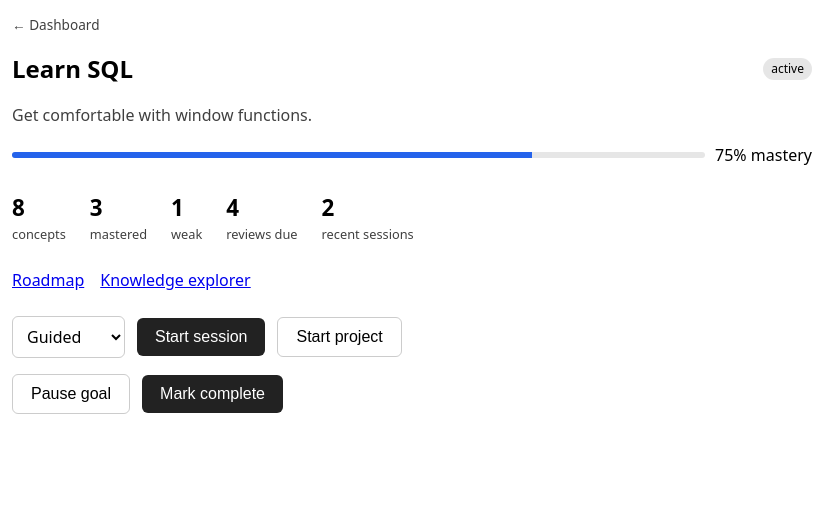
Test: GoalView › shows a start-project failure inline instead of blanking the rest of the page
Expected: the heading "Learn SQL" is shown, [12,51,133,87]
Click the button "Start project" at (340,337), box [278,317,402,357]
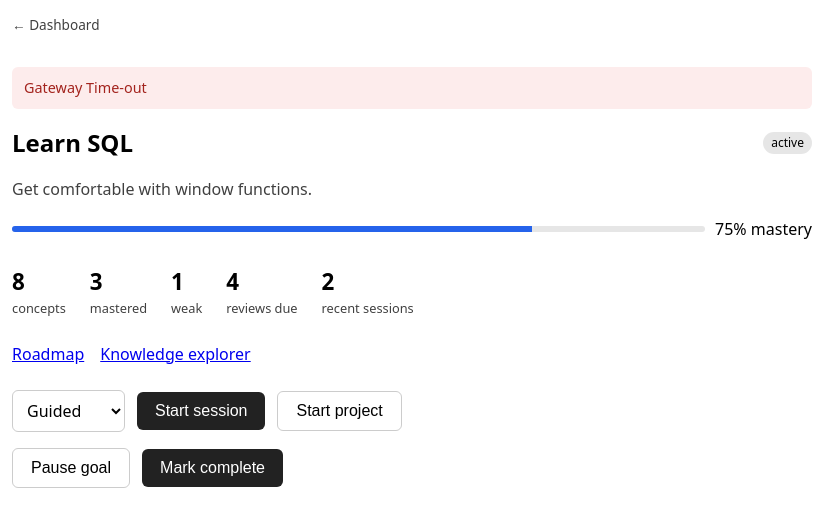
Expected: the heading "Learn SQL" is shown, [12,125,133,161]
Expected: the text "Gateway Time-out" is shown, [12,67,812,109]
